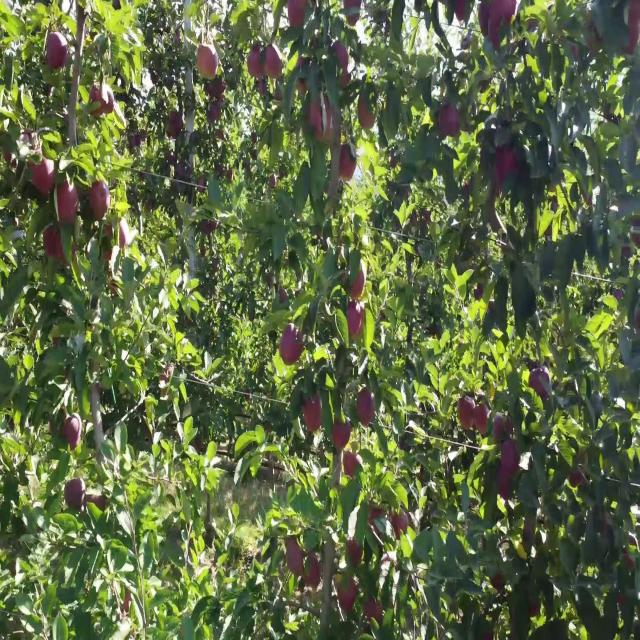apple: (480, 0, 516, 39), (312, 99, 334, 146), (56, 184, 80, 226), (88, 177, 111, 220), (280, 327, 304, 368), (500, 455, 521, 501), (36, 156, 58, 199), (496, 149, 518, 188), (308, 99, 327, 140), (332, 42, 350, 85), (64, 476, 85, 512), (340, 575, 359, 613), (356, 391, 376, 427), (48, 35, 68, 71), (304, 398, 324, 434), (44, 227, 64, 263), (500, 440, 520, 475), (624, 14, 640, 57), (104, 220, 120, 263), (332, 419, 352, 453), (440, 106, 460, 140), (348, 305, 366, 341), (304, 554, 322, 590), (532, 369, 552, 400), (288, 0, 309, 28), (264, 49, 284, 78), (248, 42, 264, 78), (288, 540, 304, 576), (200, 49, 219, 78), (392, 511, 411, 540), (460, 398, 475, 434), (344, 0, 363, 28), (64, 419, 81, 450), (340, 149, 356, 181), (204, 78, 227, 100), (364, 597, 384, 622), (360, 99, 376, 130), (624, 540, 640, 571), (500, 0, 518, 27), (296, 56, 308, 96), (168, 113, 184, 142), (348, 540, 364, 569), (337, 56, 351, 89), (496, 419, 513, 446), (352, 270, 366, 300), (476, 405, 489, 436), (500, 469, 512, 501), (116, 220, 128, 251), (344, 455, 360, 478), (92, 85, 103, 117), (568, 469, 584, 489), (212, 78, 226, 100), (4, 149, 18, 171), (339, 63, 351, 87), (456, 1, 469, 23), (372, 511, 385, 532), (104, 92, 116, 114), (296, 56, 308, 78), (208, 106, 222, 123), (120, 220, 128, 249), (92, 497, 107, 512), (296, 78, 308, 96), (492, 575, 504, 592), (124, 590, 132, 615), (204, 220, 217, 235), (528, 604, 540, 619), (48, 419, 57, 439), (604, 519, 611, 540), (476, 284, 484, 302), (260, 78, 268, 96), (132, 135, 142, 149), (280, 291, 288, 306), (464, 184, 472, 199), (424, 213, 432, 226), (636, 312, 640, 336), (180, 163, 185, 178)
